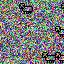sheep: (19, 3, 33, 14), (42, 52, 56, 63), (54, 25, 64, 37), (55, 51, 64, 63)
